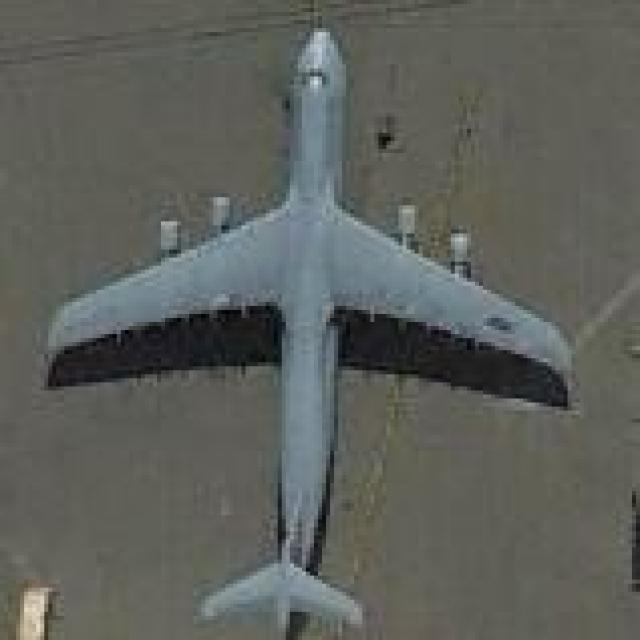C-5_TopDown: (36, 20, 584, 636)
